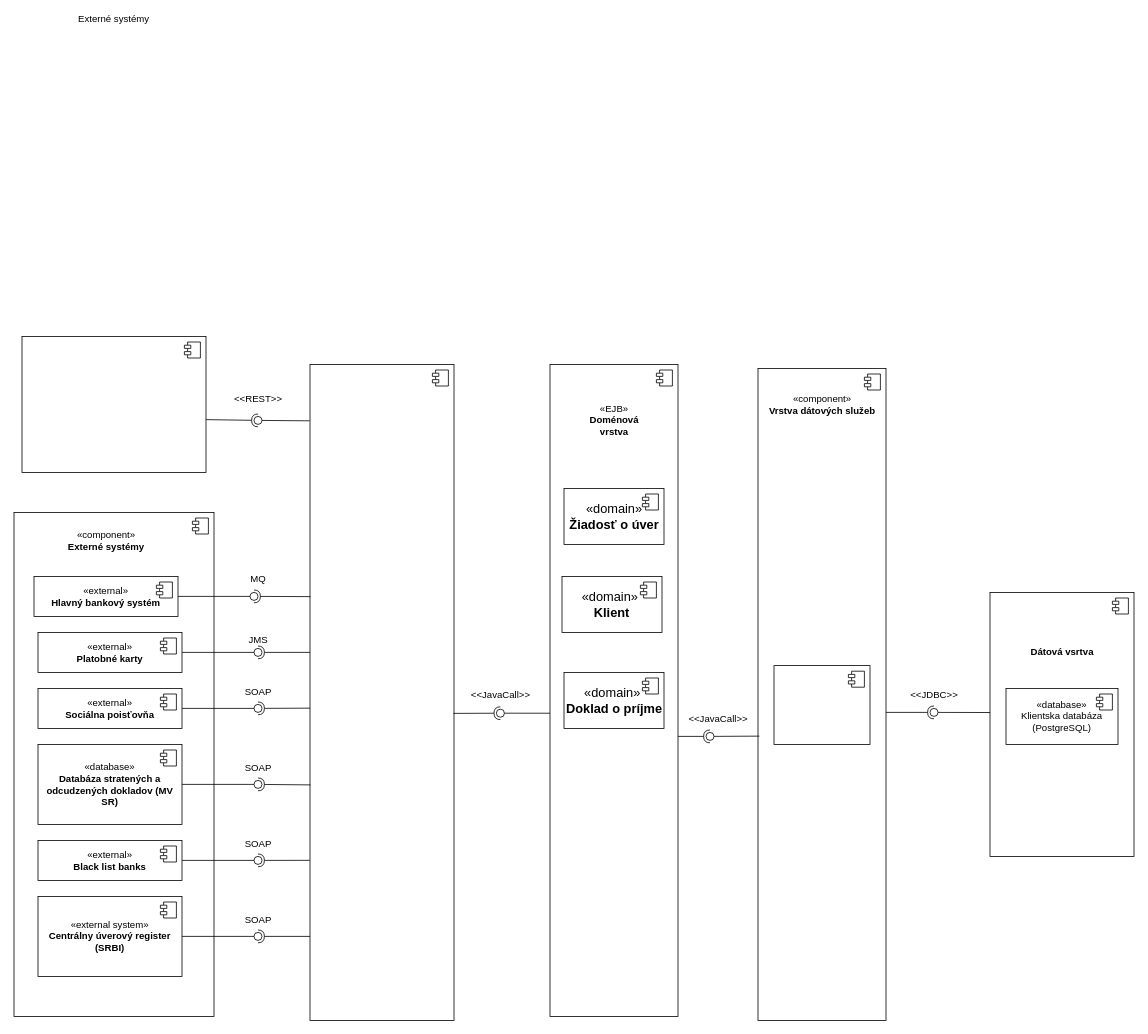
Image size: 1148x1034. Some labels were removed from this diagram. Here are the shapes that lost their labels. From the top down, the centre of each, then its label:
At (x=113, y=404): "«AngularJS» Prezentačná vrstva".
At (x=381, y=692): "«REST WS» Servisná vrstva".
At (x=821, y=704): "«JPA» Objektovo relačné mapovanie".
